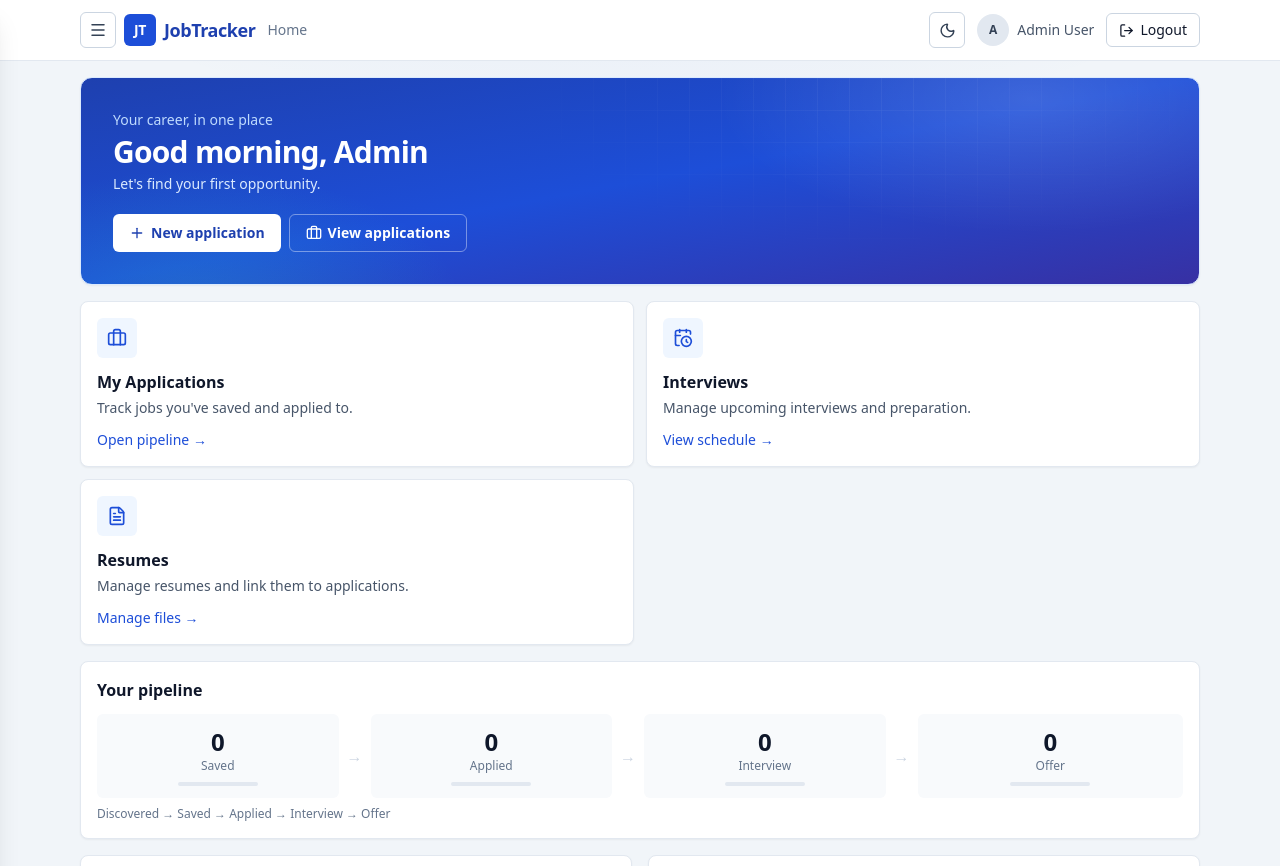
Test: auth-gated routing › returns to the public landing after logout
Expected: the heading "Good morning, Admin" is shown, [113,131,428,172]
Click the button with aria-label "Log out" at {"x": 1153, "y": 30}, box [1106,13,1200,47]
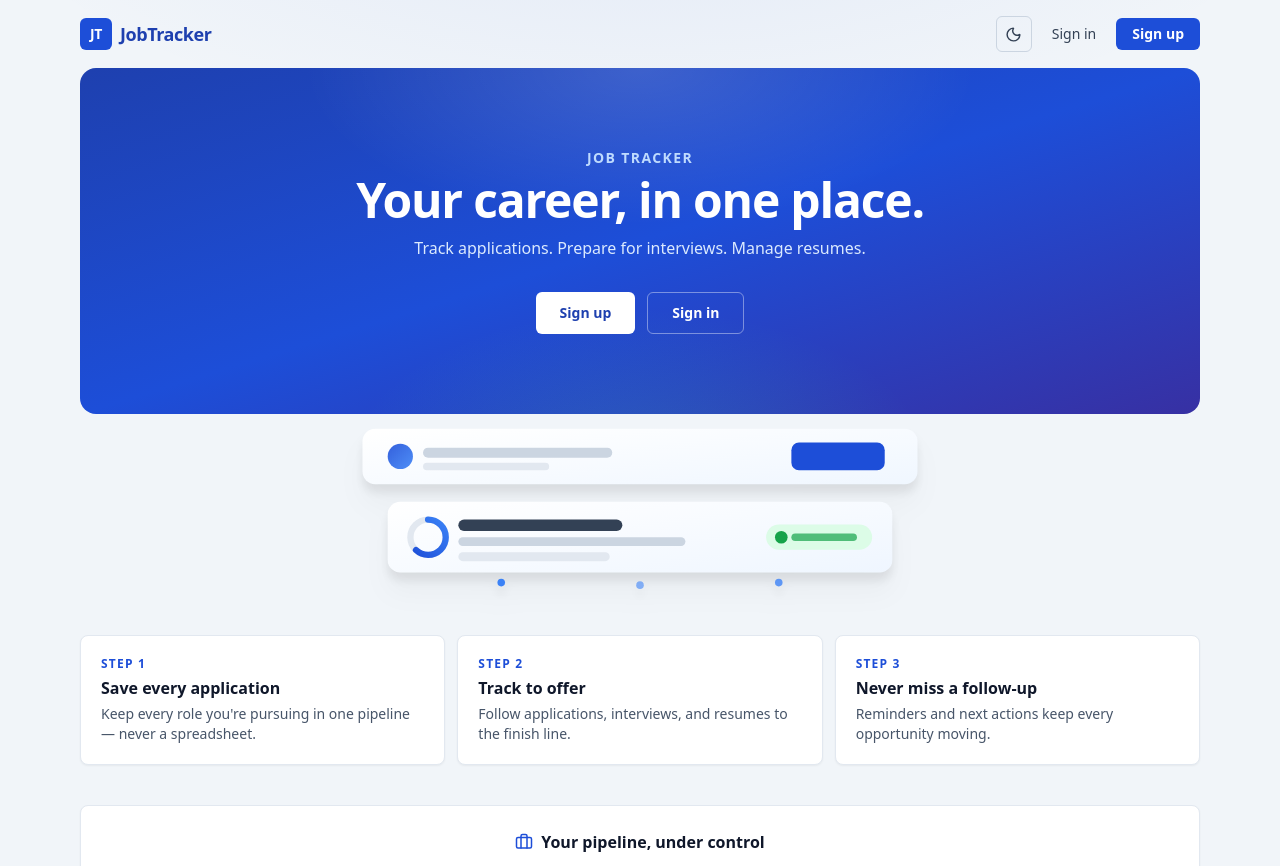
Result: the heading "Your career, in one place." is shown at [356,167,924,232]
